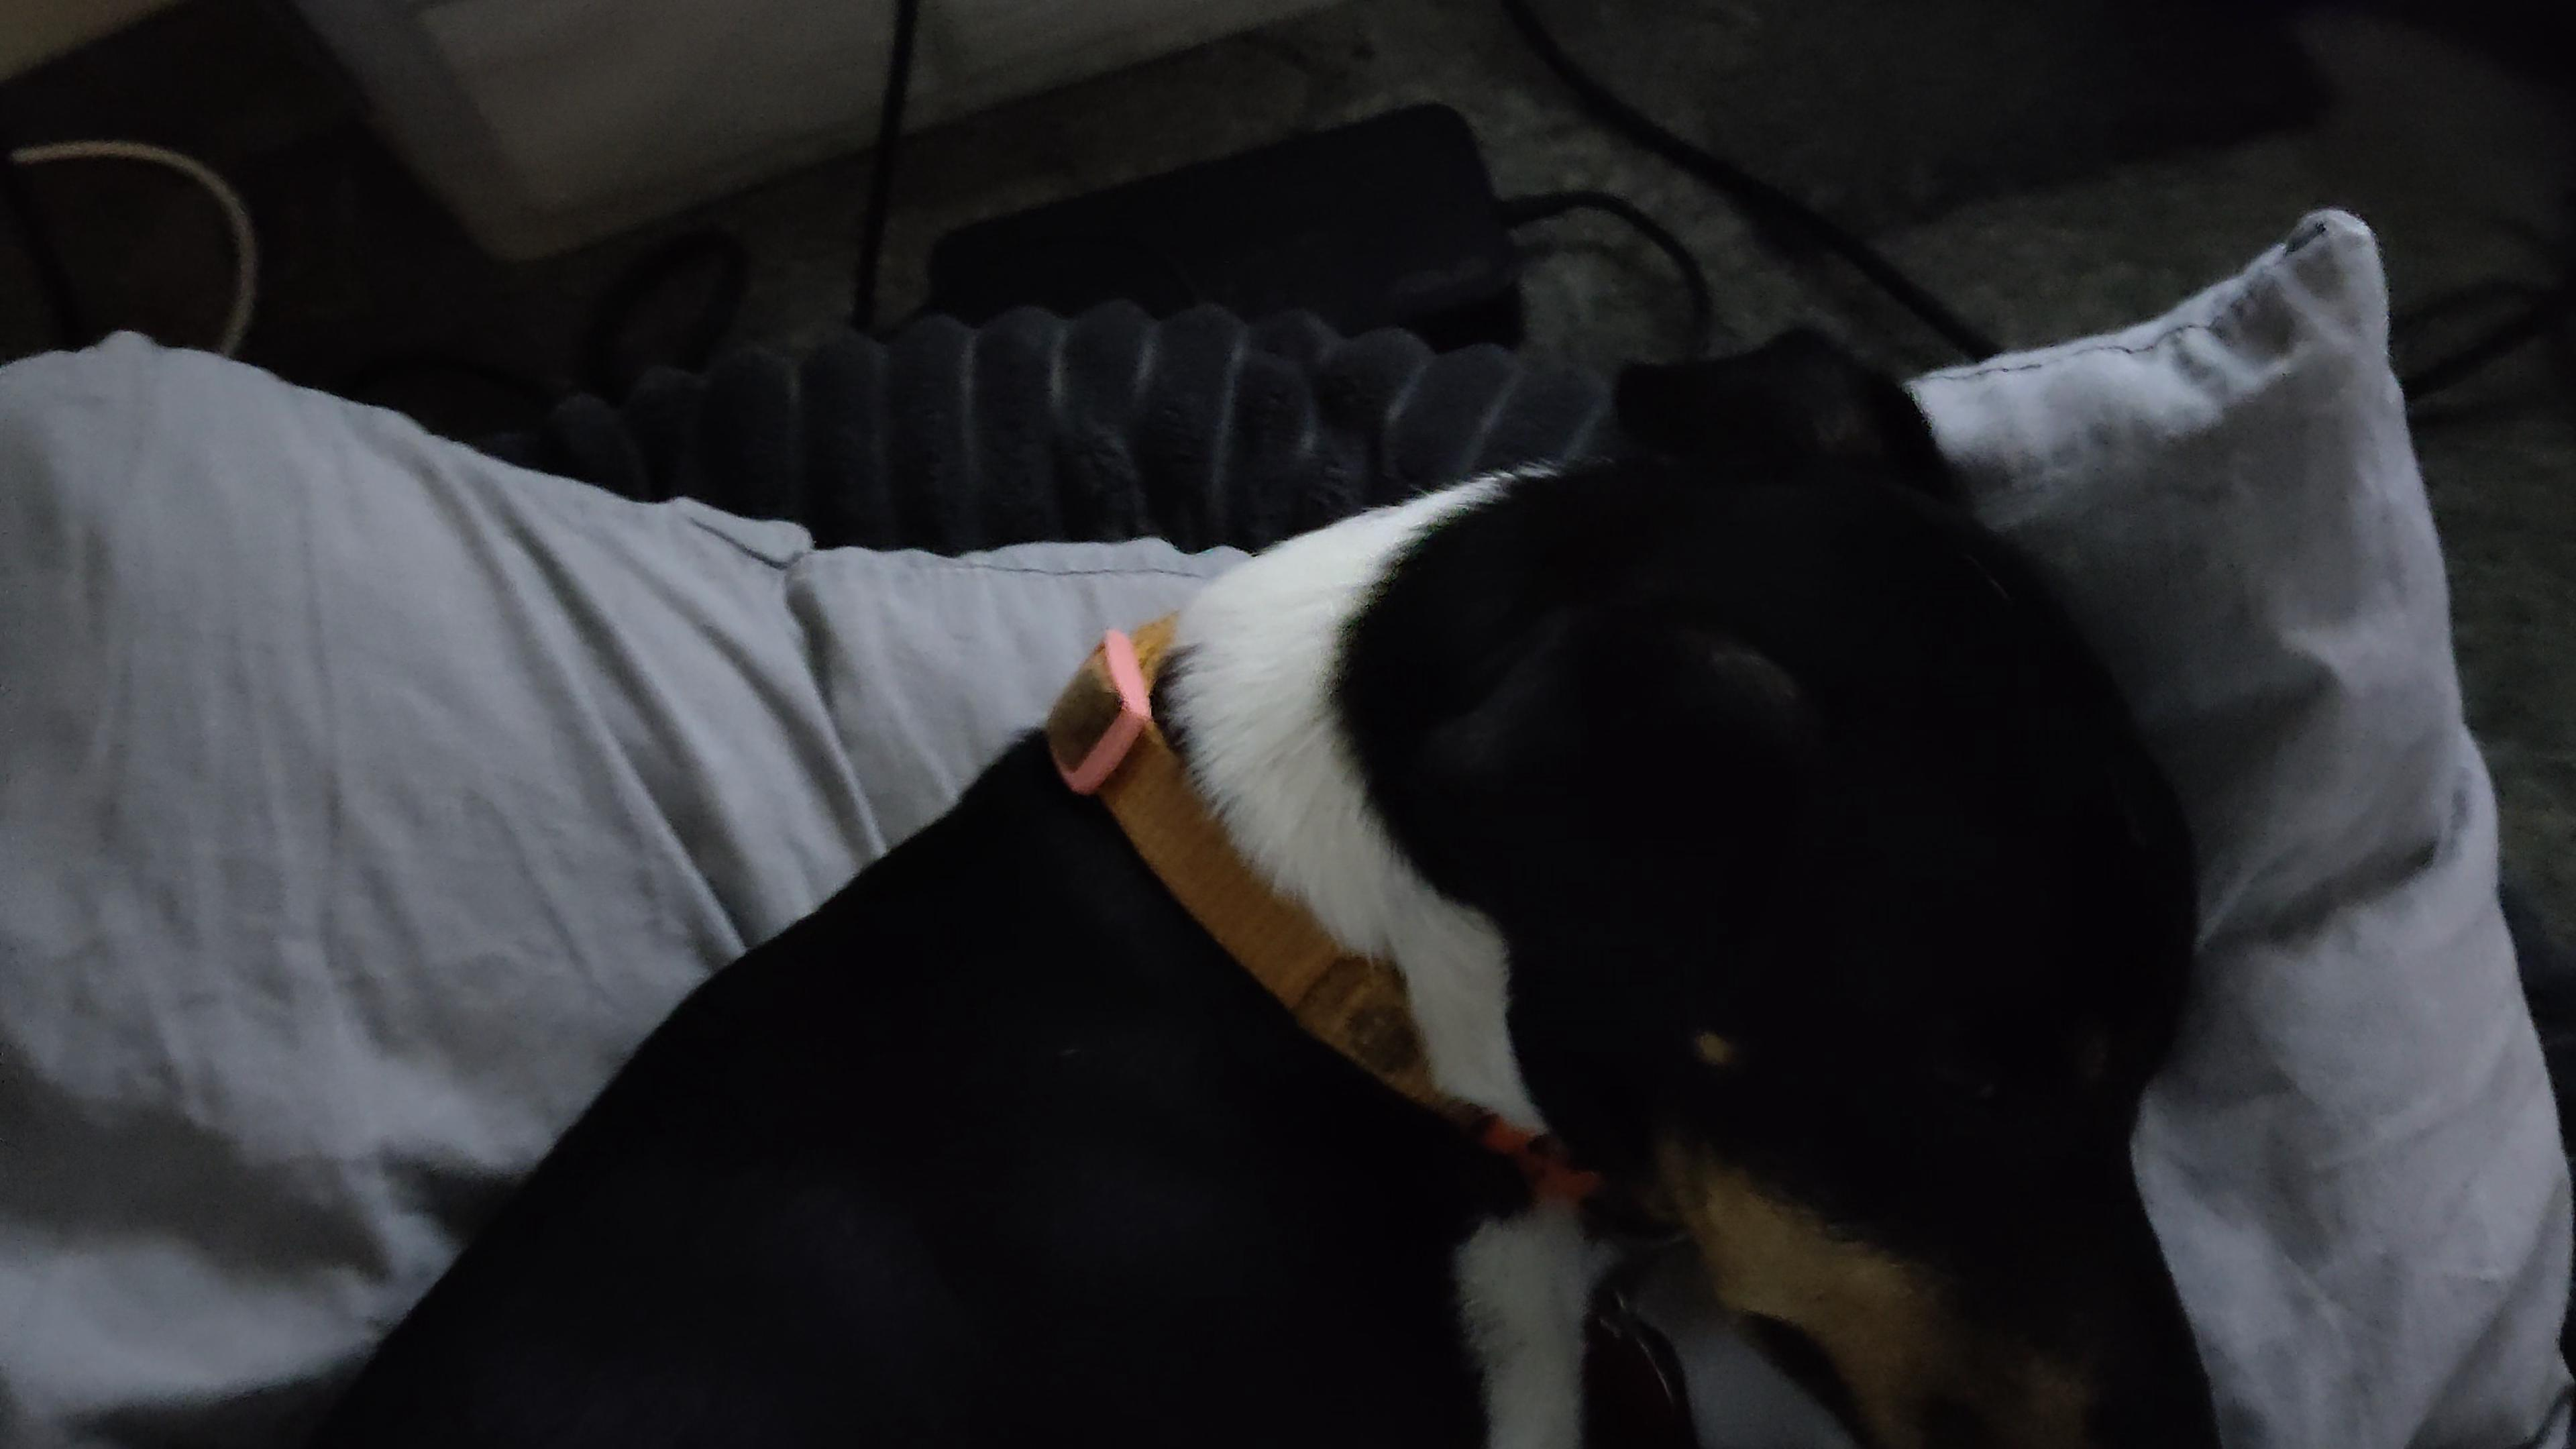Dog: (230, 311, 2270, 1449)
